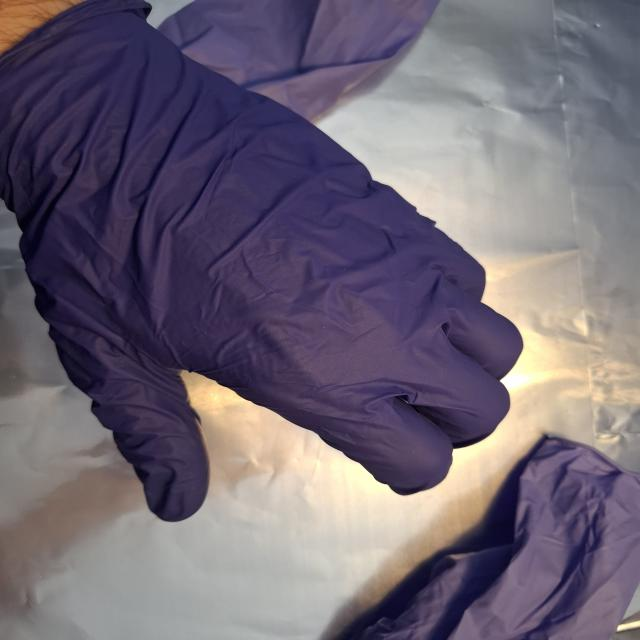glove_on: (0, 0, 534, 524)
